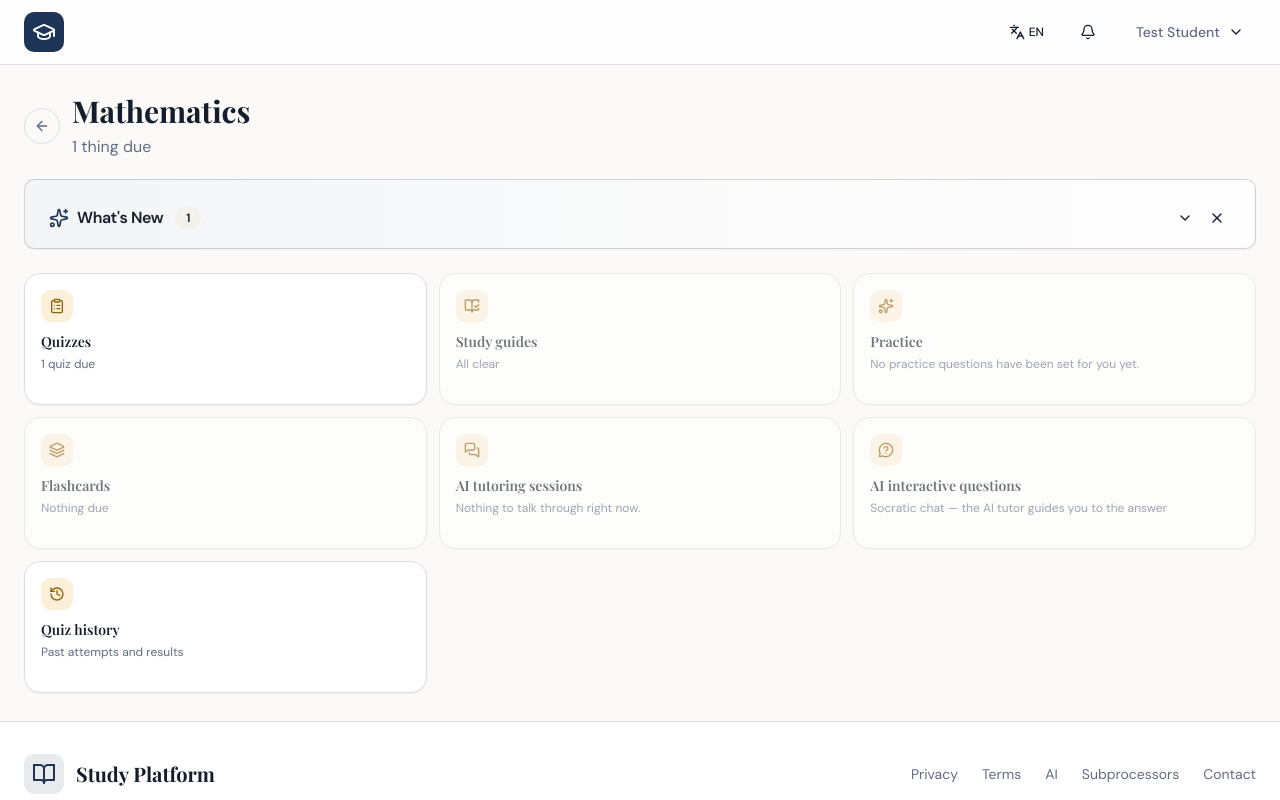
Scenario: StudentCourse — the option launcher › counts the open quizzes on the tile and lists them behind it
The width and height of the screenshot is (1280, 800).
Step 1. Click the button with test id "launcher-quizzes" → (57, 306), box [24,273,427,405]
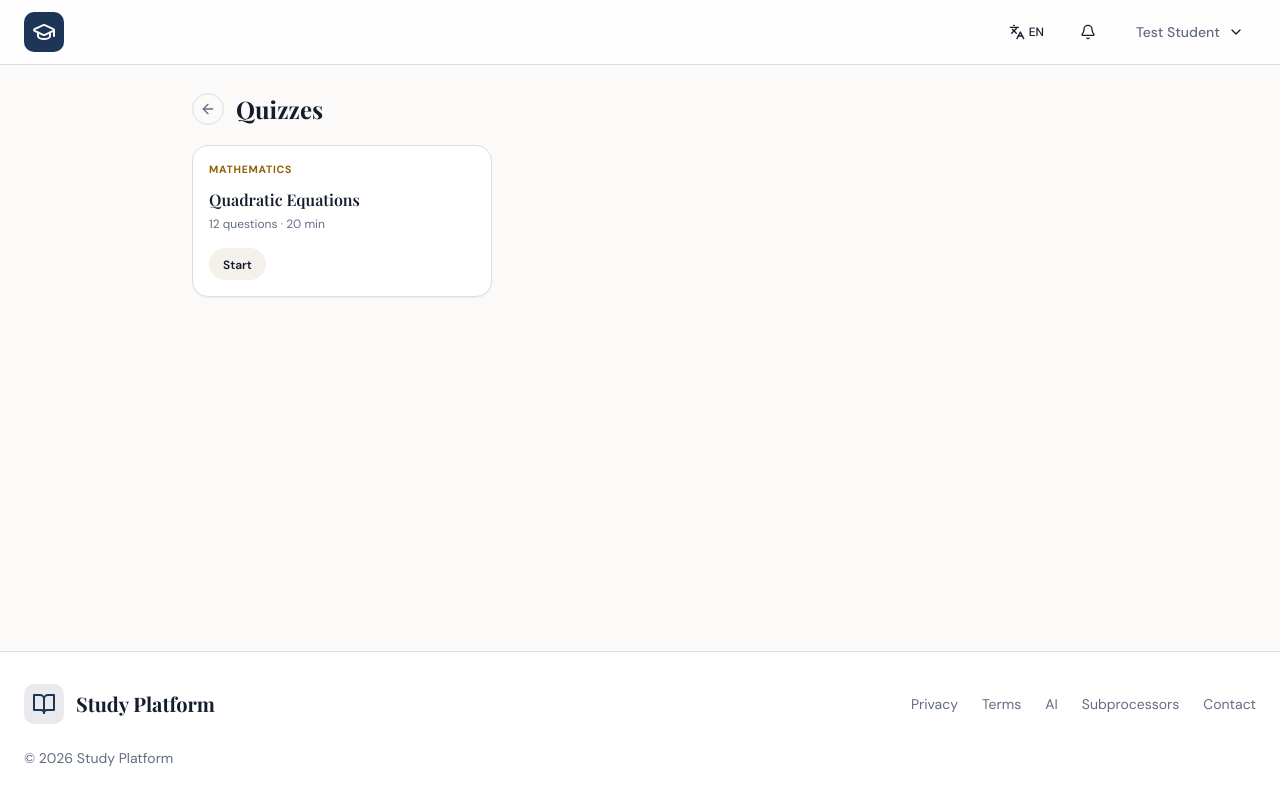
Expected: the button with test id "due-tile-quiz-oq-1" shows "Quadratic Equations", [192,145,492,297]
Expected: the button "Start" is shown, [209,248,266,280]
